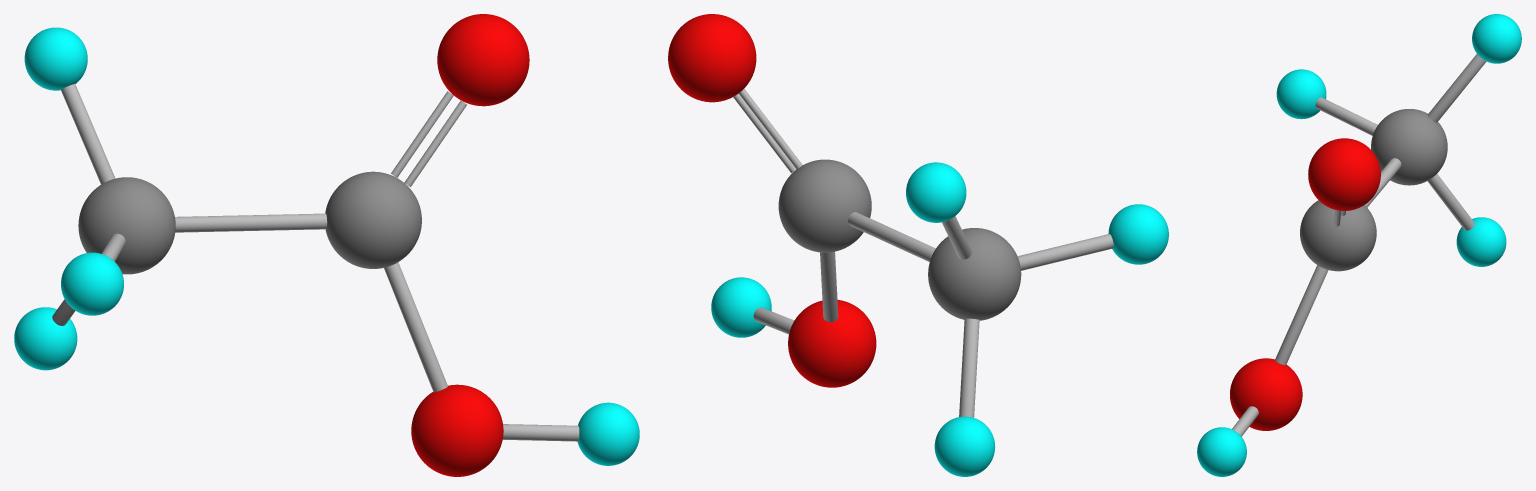
Rendered from acetic acid.glb.
The picture shows the model from 3 angles, left to right: view 1: azimuth 30°, elevation 25°; view 2: azimuth 150°, elevation 25°; view 3: azimuth 270°, elevation 25°; orthographic projection. The views are drawn at different scales.
Visible parts, largest first — view 1: CMAtom_1, CMAtom_0, CMAtom_2, CMAtom_3, CMAtom_6, CMAtom_5, CMAtom_4, CMAtom_7, CMBond_1_Segment_0, CMBond_4_Segment_0, CMBond_6_Segment_0, CMBond_5_Segment_0 (+2 smaller); view 2: CMAtom_1, CMAtom_0, CMAtom_2, CMAtom_3, CMAtom_5, CMAtom_7, CMAtom_6, CMAtom_4, CMBond_8_Segment_0, CMBond_7_Segment_0, CMBond_1_Segment_0, CMBond_4_Segment_0 (+4 smaller); view 3: CMAtom_0, CMAtom_2, CMAtom_1, CMAtom_3, CMAtom_4, CMAtom_5, CMAtom_7, CMAtom_6, CMBond_4_Segment_0, CMBond_6_Segment_0, CMBond_7_Segment_0, CMBond_8_Segment_0 (+2 smaller).
Part boxes in pixels (bbox=[...]): CMAtom_1: bbox=[325, 171, 421, 268]; CMAtom_0: bbox=[78, 177, 175, 274]; CMAtom_2: bbox=[437, 14, 529, 106]; CMAtom_3: bbox=[411, 384, 503, 476]; CMAtom_6: bbox=[61, 252, 123, 315]; CMAtom_5: bbox=[24, 27, 87, 90]; CMAtom_4: bbox=[577, 402, 639, 465]; CMAtom_7: bbox=[14, 307, 77, 370]; CMBond_1_Segment_0: bbox=[175, 213, 327, 232]; CMBond_4_Segment_0: bbox=[384, 262, 447, 392]; CMBond_6_Segment_0: bbox=[61, 84, 115, 184]; CMBond_5_Segment_0: bbox=[502, 424, 579, 441]; CMAtom_1: bbox=[778, 159, 871, 252]; CMAtom_0: bbox=[928, 228, 1021, 320]; CMAtom_2: bbox=[668, 14, 756, 102]; CMAtom_3: bbox=[788, 300, 876, 387]; CMAtom_5: bbox=[906, 162, 966, 222]; CMAtom_7: bbox=[934, 416, 995, 476]; CMAtom_6: bbox=[1108, 204, 1168, 264]; CMAtom_4: bbox=[711, 277, 771, 337]; CMBond_8_Segment_0: bbox=[959, 318, 979, 417]; CMBond_7_Segment_0: bbox=[1017, 234, 1113, 270]; CMBond_1_Segment_0: bbox=[848, 212, 935, 261]; CMBond_4_Segment_0: bbox=[820, 251, 838, 322]; CMAtom_0: bbox=[1371, 109, 1447, 185]; CMAtom_2: bbox=[1308, 138, 1380, 210]; CMAtom_1: bbox=[1300, 200, 1376, 271]; CMAtom_3: bbox=[1230, 358, 1302, 430]; CMAtom_4: bbox=[1197, 427, 1246, 476]; CMAtom_5: bbox=[1472, 14, 1521, 63]; CMAtom_7: bbox=[1456, 217, 1506, 266]; CMAtom_6: bbox=[1276, 69, 1326, 119]; CMBond_4_Segment_0: bbox=[1275, 265, 1328, 365]; CMBond_6_Segment_0: bbox=[1427, 54, 1486, 122]; CMBond_7_Segment_0: bbox=[1315, 97, 1377, 135]; CMBond_8_Segment_0: bbox=[1427, 174, 1474, 230].
Size of the model in its own units: 3.8 by 2.79 by 2.61.
